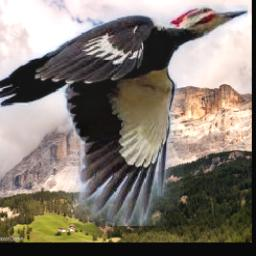Woodpecker: (0, 6, 249, 227)
